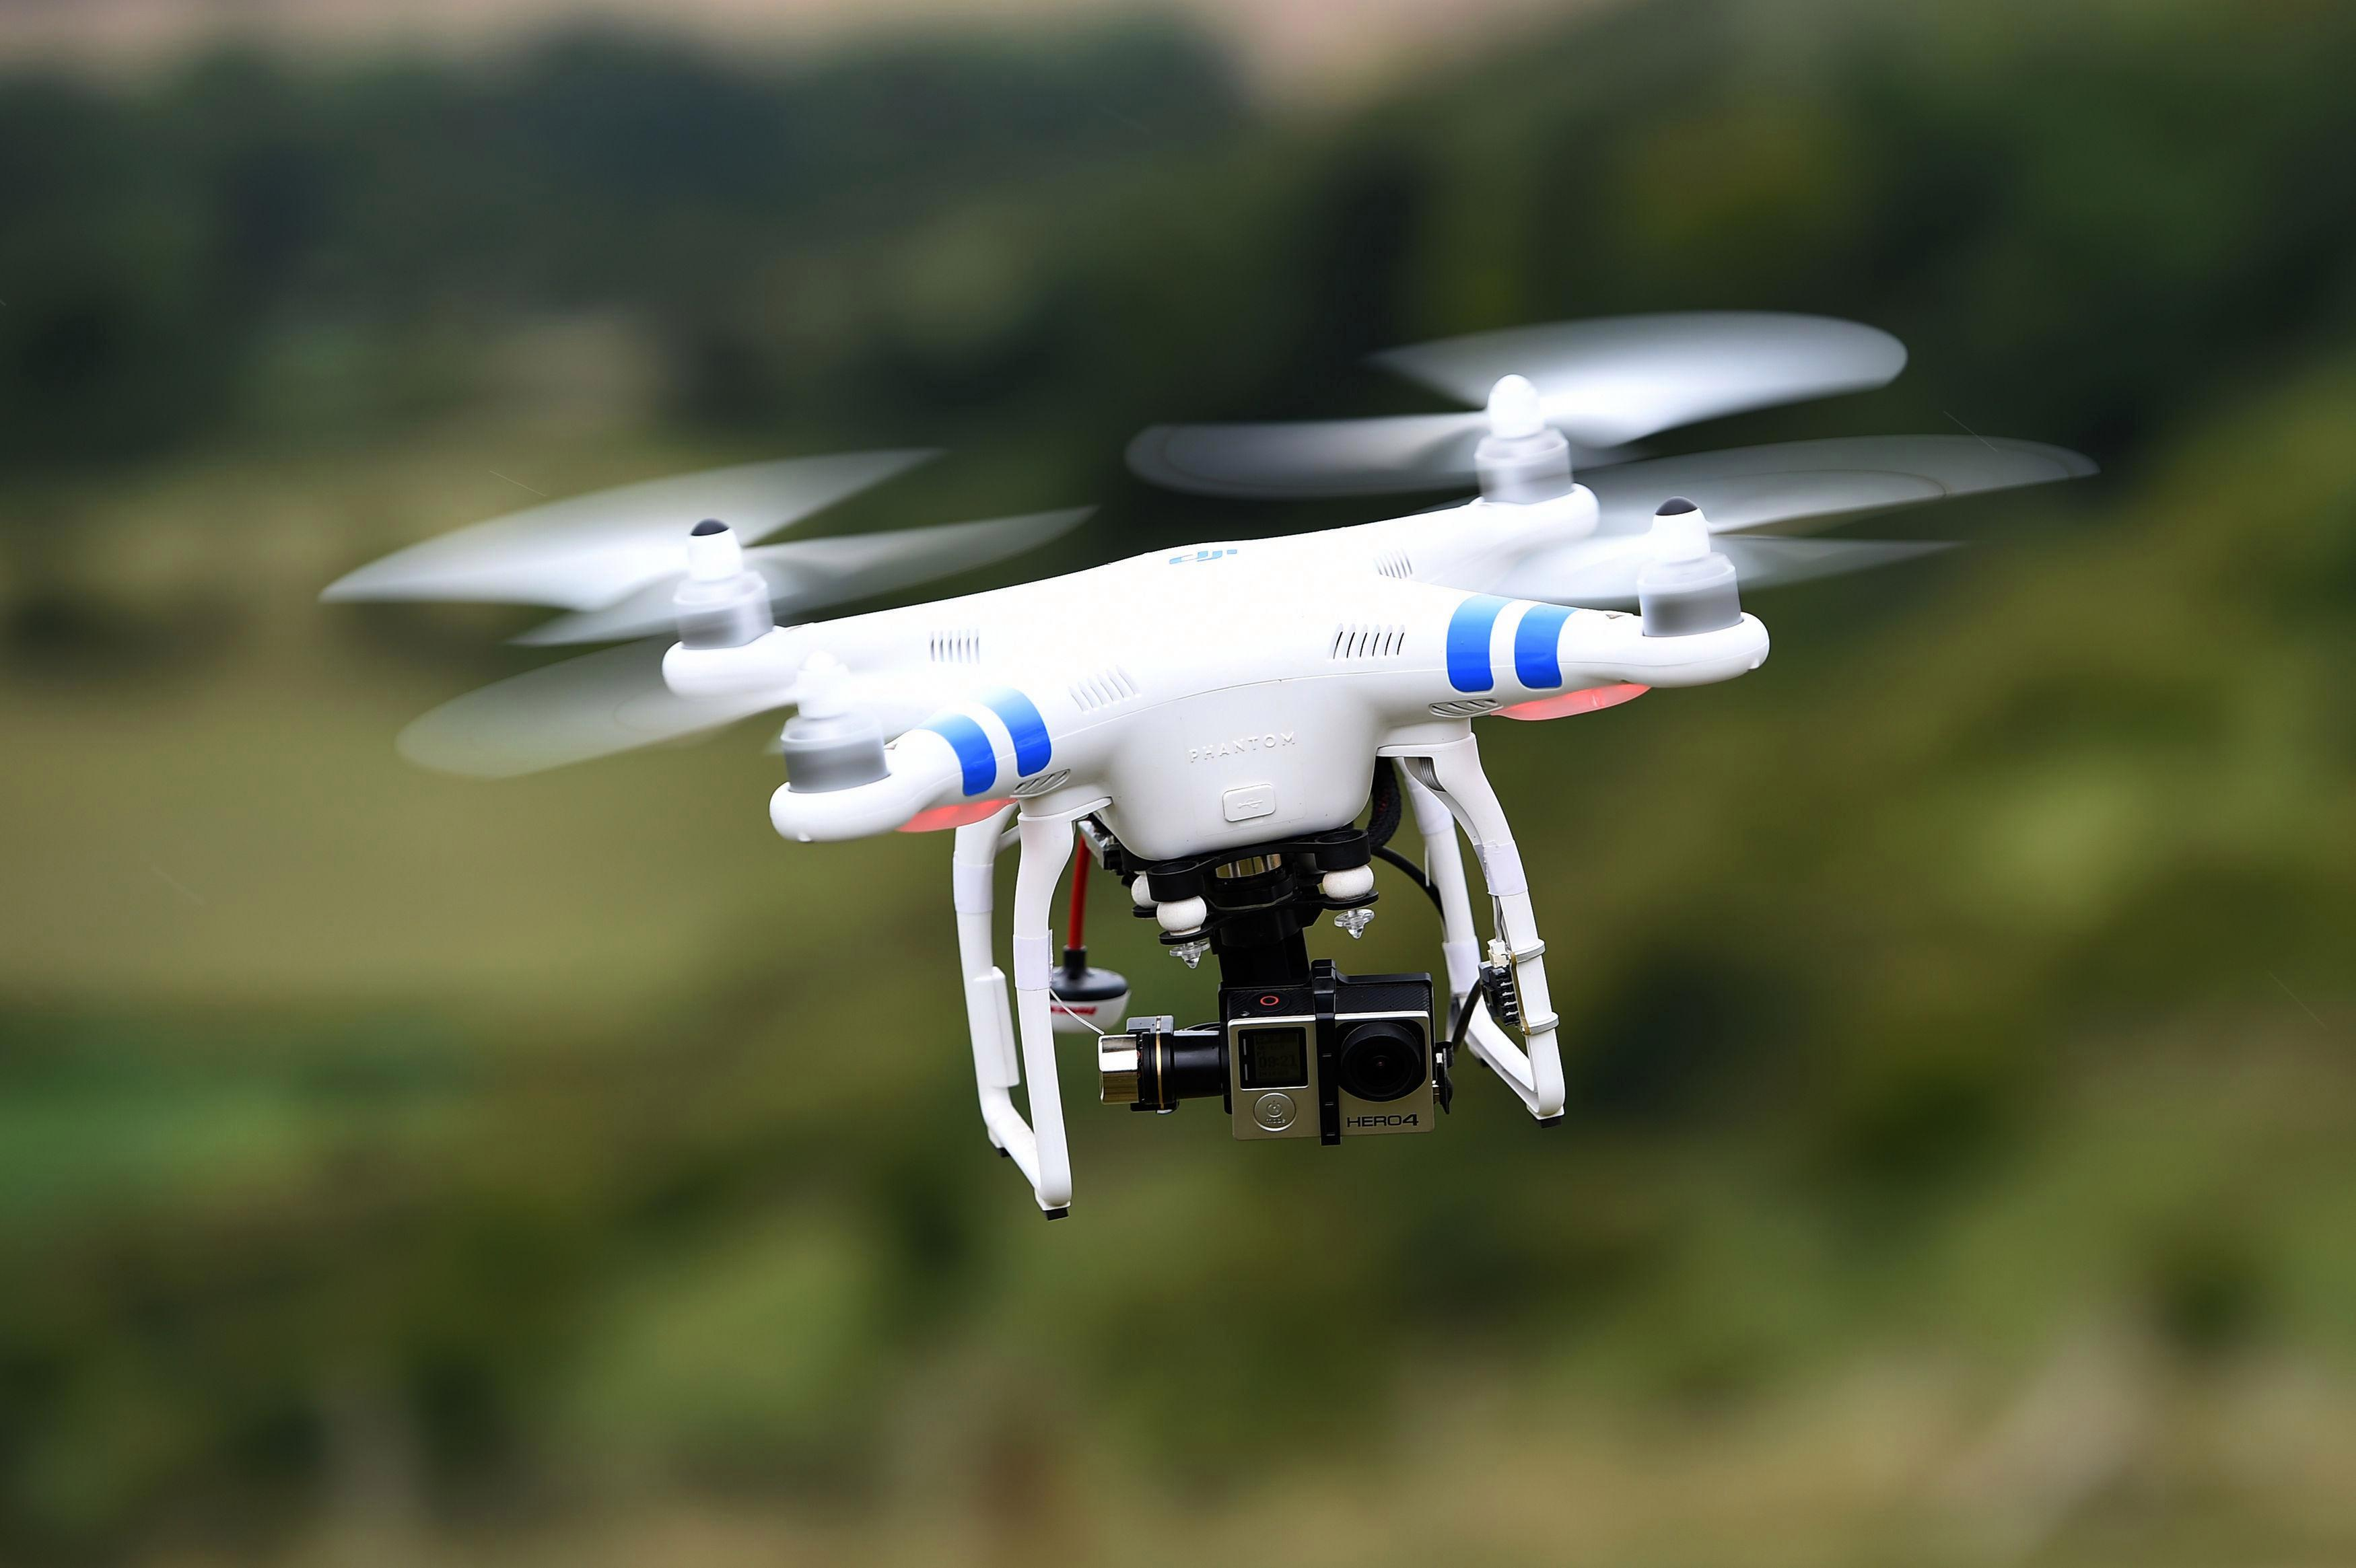drone: (285, 282, 2123, 1232)
